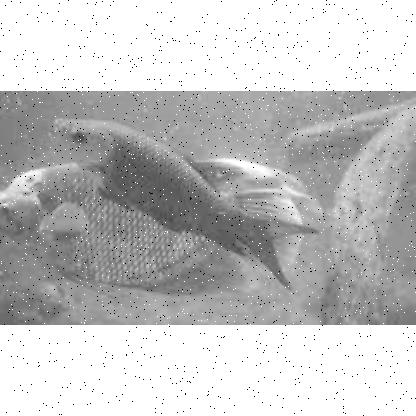gurame: (5, 166, 295, 298)
